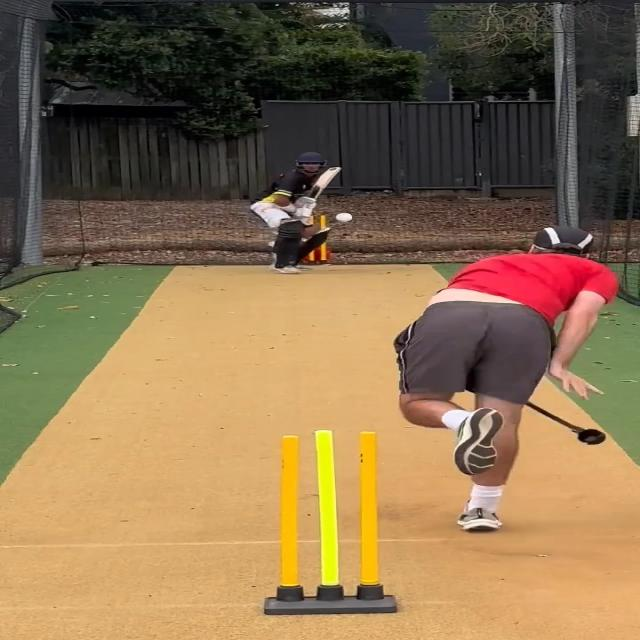ball: (333, 210, 355, 223)
stump: (261, 429, 400, 614)
